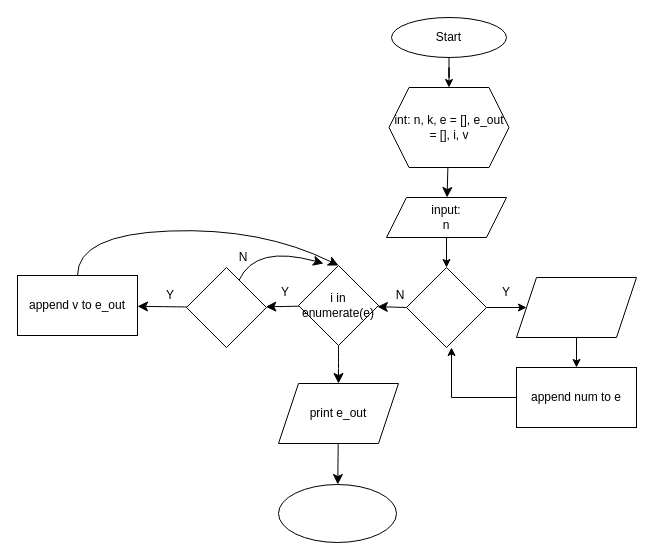
The diagram is 654 pixels wide and 560 high, and some of its shapes have lost their labels. The shapes that lost their labels are listed below. From the top down, each one's centre as x and y in pixels, then its label:
(x=226, y=307): if v% k != 0
(x=446, y=307): i < n
(x=576, y=307): Input: num
(x=337, y=513): End
